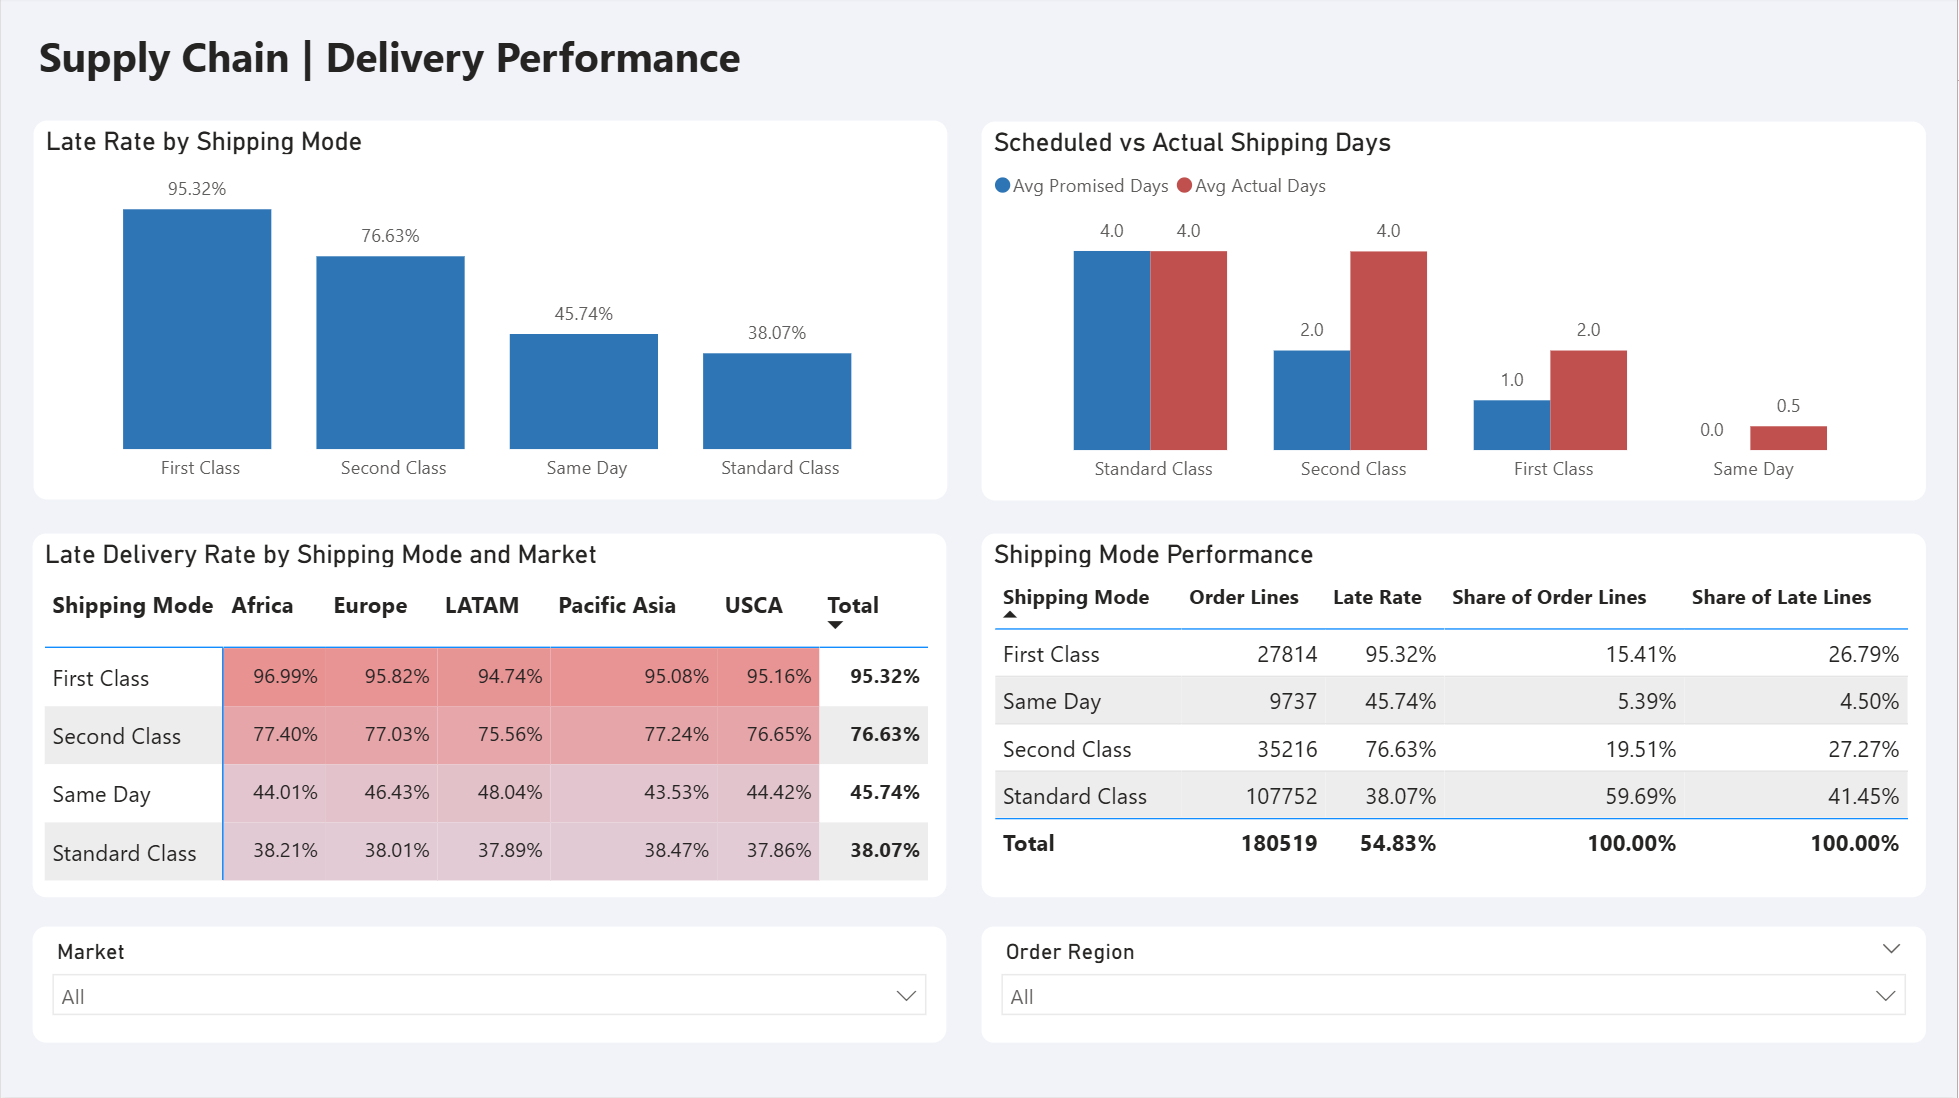

The dashboard page shown, as its layout file describes it:
{"tool":"powerbi","page":{"name":"Delivery Performance","canvas":[1280,720],"ordinal":1},"visuals":[{"type":"textbox","box":[19.8,15.1,799.9,54.6],"z":0},{"type":"clusteredColumnChart","fields":{"Category":["clean_orders.Shipping Mode"],"Y":["clean_orders.Late Rate"]},"box":[20,80,600,250],"z":1000},{"type":"clusteredColumnChart","title":"Scheduled vs Actual Shipping Days","fields":{"Category":["clean_orders.Shipping Mode"],"Y":["clean_orders.Avg Promised Days","clean_orders.Avg Actual Days"]},"box":[640.6,80.4,620,250],"z":2000},{"type":"pivotTable","title":"Late Delivery Rate by Shipping Mode and Market","fields":{"Rows":["clean_orders.Shipping Mode"],"Columns":["clean_orders.Market"],"Values":["clean_orders.Late Rate"]},"box":[19.8,350,599.8,239.9],"z":3000},{"type":"tableEx","title":"Shipping Mode Performance","fields":{"Values":["clean_orders.Shipping Mode","clean_orders.Order Lines","clean_orders.Late Rate","clean_orders.Share of Order Lines","clean_orders.Share of Late Lines"]},"box":[640.6,350,619.6,239.9],"z":4000},{"type":"slicer","fields":{"Values":["clean_orders.Market"]},"box":[19.8,607.2,599.8,77.9],"z":5000},{"type":"slicer","fields":{"Values":["clean_orders.Order Region"]},"box":[640.6,607.2,619.6,77.9],"z":6000}]}

Visuals, with their boxes in screenshot pixels (x1, y1, x2, y2), scaled from the page's 1280x720 canvas onto the 1959x1098 screenshot:
textbox: [x1=30, y1=23, x2=1255, y2=106]
clusteredColumnChart - clean_orders.Shipping Mode x clean_orders.Late Rate: [x1=31, y1=122, x2=949, y2=503]
"Scheduled vs Actual Shipping Days" clusteredColumnChart: [x1=980, y1=123, x2=1929, y2=504]
"Late Delivery Rate by Shipping Mode and Market" pivotTable: [x1=30, y1=534, x2=948, y2=900]
"Shipping Mode Performance" tableEx: [x1=980, y1=534, x2=1929, y2=900]
slicer - clean_orders.Market: [x1=30, y1=926, x2=948, y2=1045]
slicer - clean_orders.Order Region: [x1=980, y1=926, x2=1929, y2=1045]
